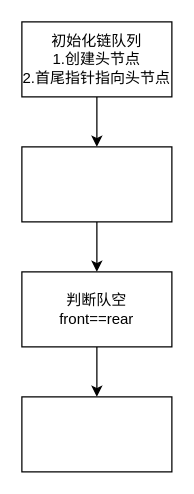
Some shapes in this 194 by 494 pixel diagram are drawn without their labels. The centre of each missing label's shape, as x and y in pixels:
"入队 1.创建新节点 2.改变指针" goes at pixel 96 184.
"出队 从头节点的后面逐个删除" goes at pixel 96 434.
